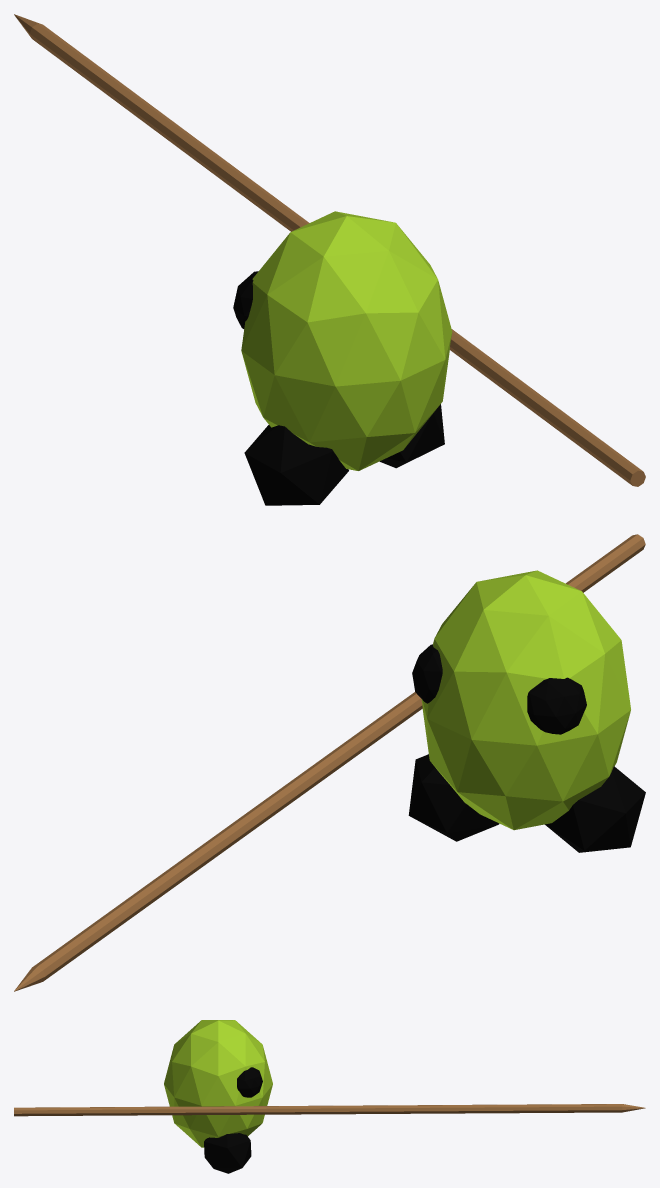
File: walk.f0025.glb
The picture shows the model from 3 angles, top to bottom: view 1: azimuth 30°, elevation 25°; view 2: azimuth 150°, elevation 25°; view 3: azimuth 270°, elevation 25°; orthographic projection. The views are drawn at different scales.
Parts seen in each view (by area): view 1: Body.001; view 2: Body.001; view 3: Body.001.
Boxes of the visible parts, <box> form: Body.001: <box>14,14,645,505</box>; Body.001: <box>14,534,645,991</box>; Body.001: <box>14,1020,645,1173</box>.
Size of the model in its own units: 2.17 by 2.8 by 11.56.
1 material, 1 textured.
